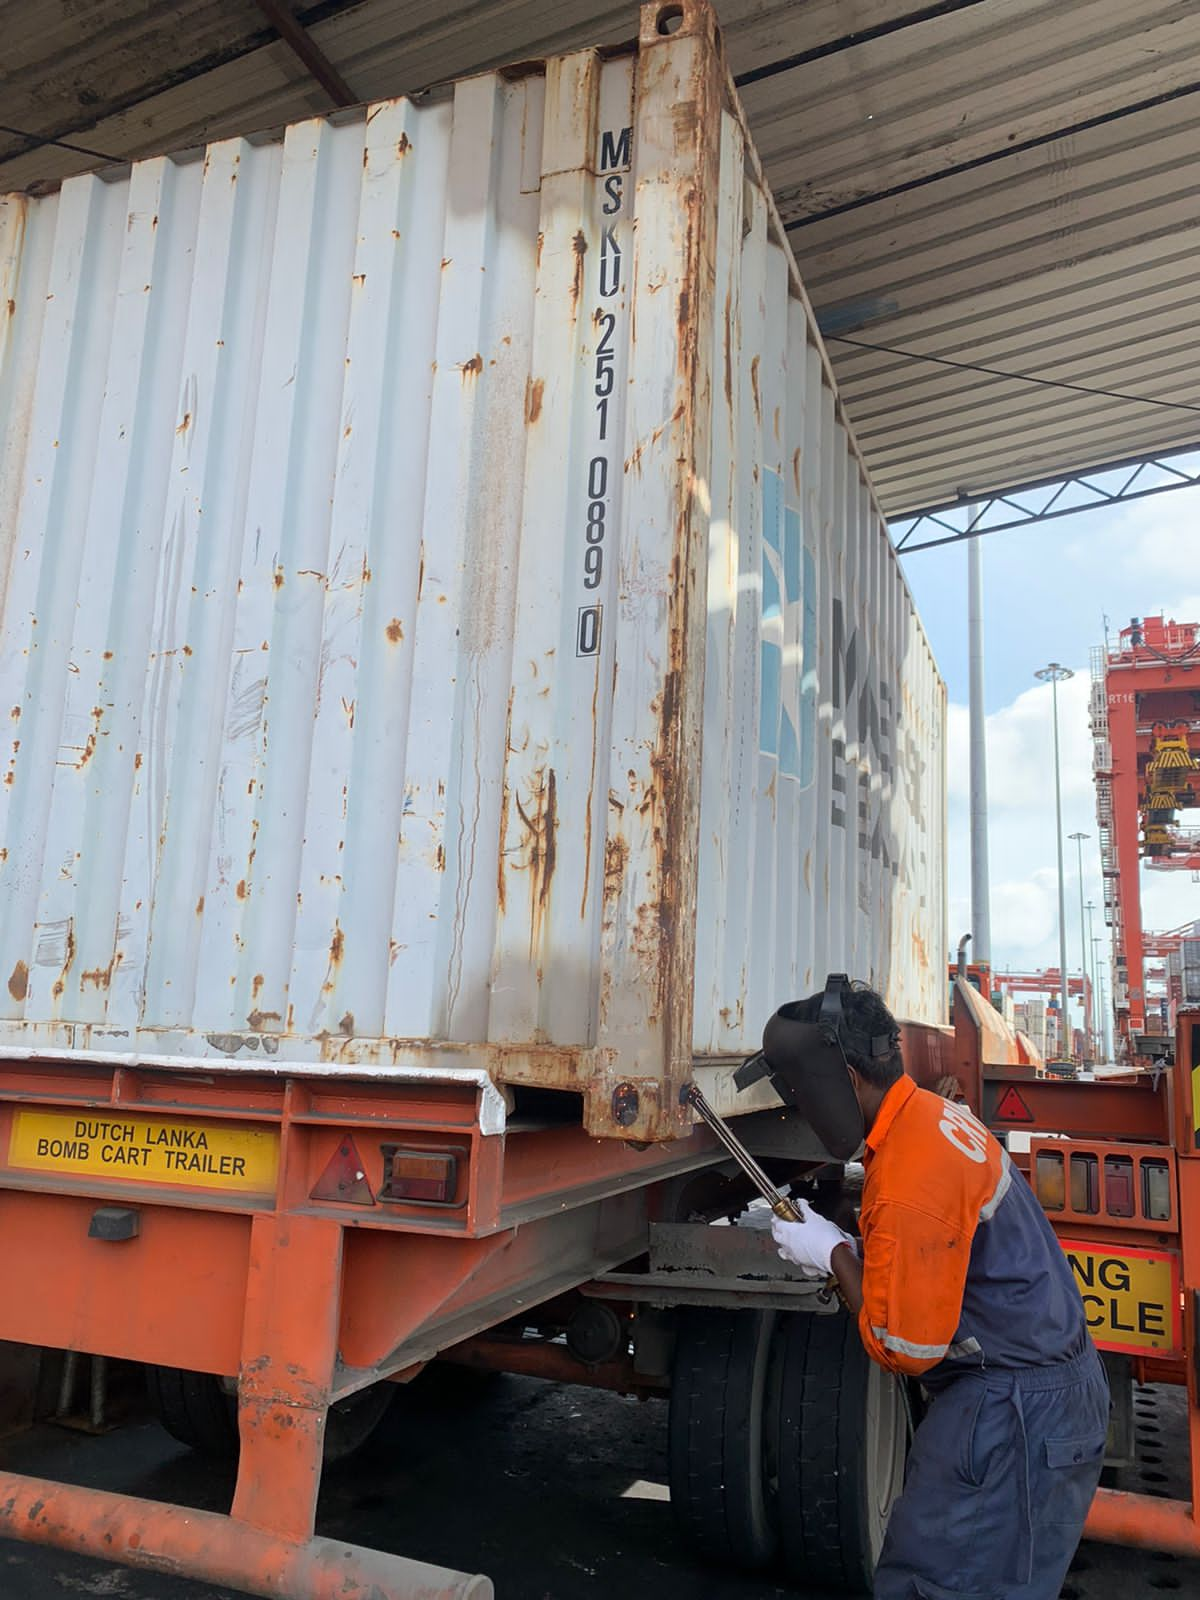rust: (550, 127, 734, 384), (597, 540, 695, 968), (505, 758, 584, 971), (44, 906, 141, 1013)
